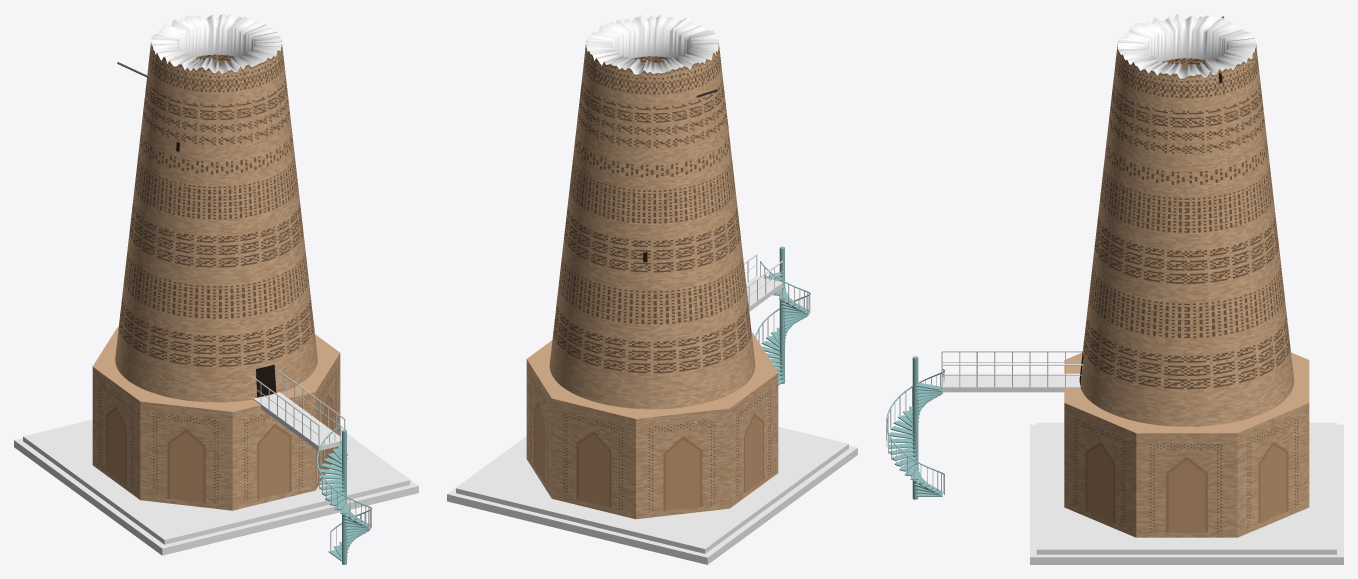
The model's file is burana-now.glb.
3 views of the same model, side by side, from view 1: azimuth 30°, elevation 25°; view 2: azimuth 150°, elevation 25°; view 3: azimuth 270°, elevation 25° (orthographic). The views are drawn at different scales.
Visible parts, largest first — view 1: Ствол, Цоколь, Подиум кирпич, Верхний обрез, Подиум камень, Мостик, Столб лестницы; view 2: Ствол, Цоколь, Подиум кирпич, Верхний обрез, Подиум камень, Мостик, Столб лестницы; view 3: Ствол, Цоколь, Подиум кирпич, Верхний обрез, Подиум камень, Мостик, Столб лестницы.
Part boxes in pixels (x1,y1,x2,y2): Ствол: (115,40,317,402); Цоколь: (92,327,340,510); Подиум кирпич: (23,419,409,544); Верхний обрез: (151,14,281,73); Подиум камень: (14,429,418,555); Мостик: (253,392,341,450); Столб лестницы: (342,429,346,564); Ствол: (549,40,755,409); Цоколь: (526,333,778,519); Подиум кирпич: (456,426,848,553); Верхний обрез: (586,14,718,74); Подиум камень: (447,436,857,564); Мостик: (746,276,782,311); Столб лестницы: (779,246,784,383); Ствол: (1079,44,1294,426); Цоколь: (1064,352,1309,537); Подиум кирпич: (1036,422,1336,554); Верхний обрез: (1117,14,1255,78); Подиум камень: (1030,424,1343,564); Мостик: (942,373,1080,392); Столб лестницы: (912,356,918,499).
Size of the model in its own units: 13.6 by 21.78 by 19.83.
Materials: 9 (2 with a texture image).
